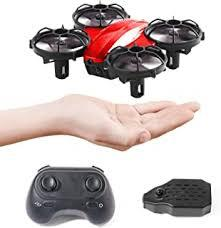drone: (23, 0, 212, 101)
